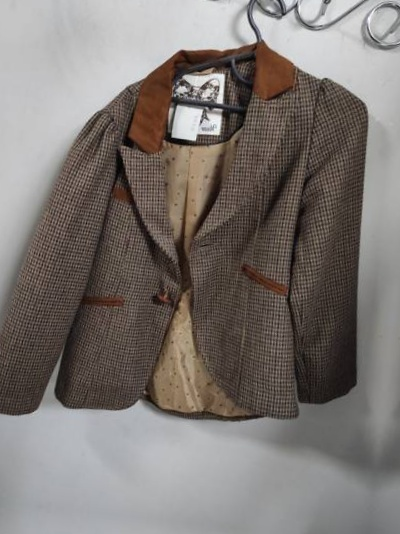Blazer: (0, 25, 400, 470), (395, 72, 400, 517)
